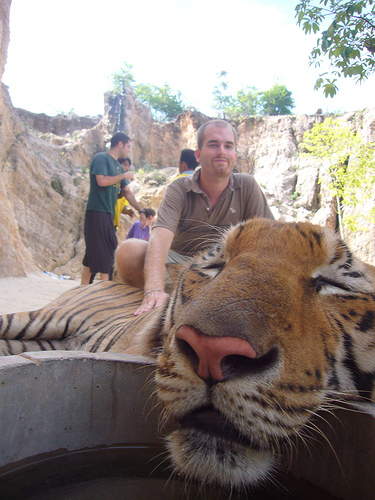Tigre: (164, 221, 374, 500)
